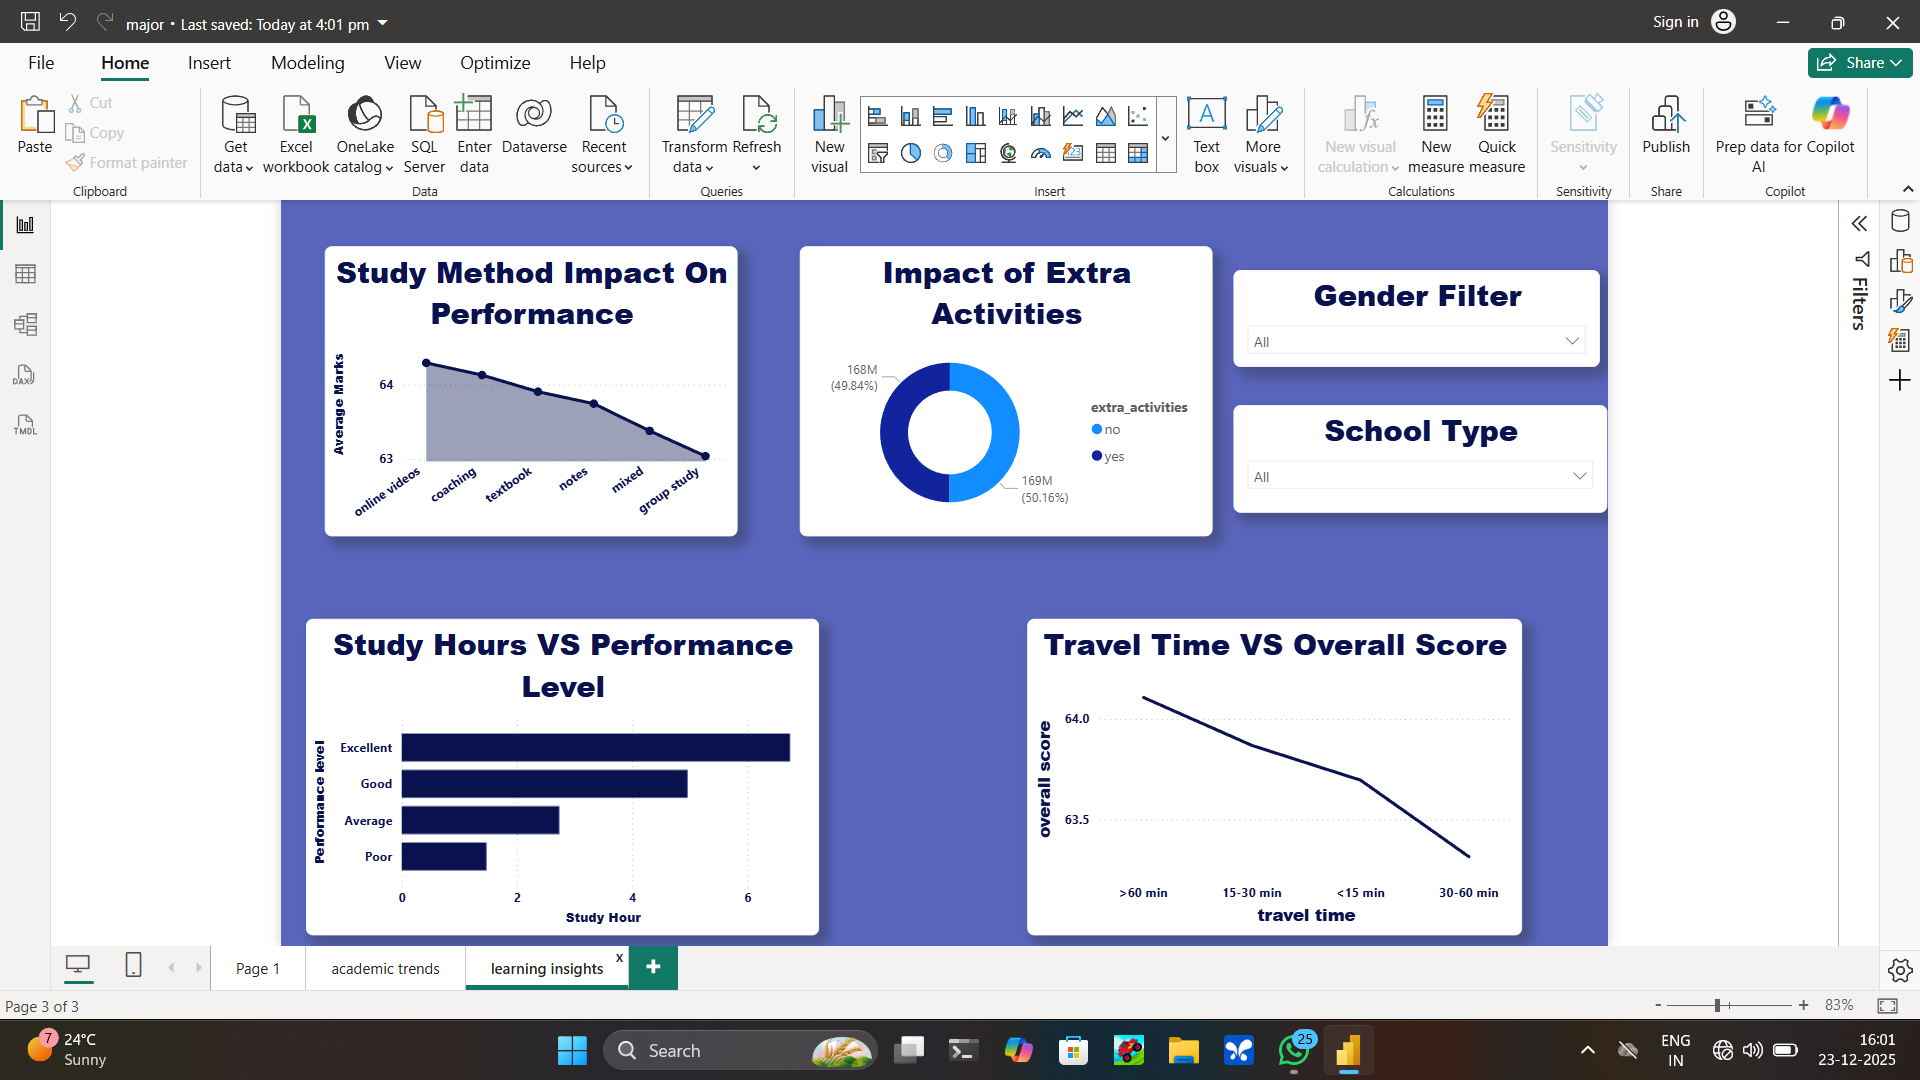

The page's visual inventory and layout, read from the dashboard file:
{"tool":"powerbi","page":{"name":"learning insights","canvas":[1280,720],"ordinal":2},"visuals":[{"type":"lineChart","title":"Study Method Impact On Performance","fields":{"Category":["education database.study_method"],"Y":["education database.Average Marks"]},"box":[41.8,44.7,398.2,279.9],"z":0},{"type":"clusteredBarChart","title":"Study Hours VS Performance Level","fields":{"Category":["education database.performance_level"],"Y":["education database.Average study hour"]},"box":[24.5,404,494.9,305.9],"z":1},{"type":"donutChart","title":"Impact of Extra Activities","fields":{"Category":["education database.extra_activities"],"Y":["education database.student_id"]},"box":[500.6,44.7,398.2,279.9],"z":2},{"type":"lineChart","title":"Travel Time VS Overall Score","fields":{"Category":["education database.travel_time"],"Y":["education database.Average Marks"]},"box":[719.9,404,477.6,305.9],"z":3},{"type":"slicer","title":"School Type","fields":{"Values":["education database.school_type"]},"box":[919,197.7,360.7,103.9],"z":4},{"type":"slicer","title":"Gender Filter","fields":{"Values":["education database.gender"]},"box":[919,67.8,353.5,93.8],"z":5}]}

Visuals, with their boxes on the page's 1280x720 design canvas (x1, y1, x2, y2). These are canvas units, not pixel positions in the 1920x1080 screenshot, which may show the page scaled, cropped or inside an application window:
"Study Method Impact On Performance" lineChart: crop(42, 45, 440, 325)
"Study Hours VS Performance Level" clusteredBarChart: crop(24, 404, 519, 710)
"Impact of Extra Activities" donutChart: crop(501, 45, 899, 325)
"Travel Time VS Overall Score" lineChart: crop(720, 404, 1198, 710)
"School Type" slicer: crop(919, 198, 1280, 302)
"Gender Filter" slicer: crop(919, 68, 1272, 162)
